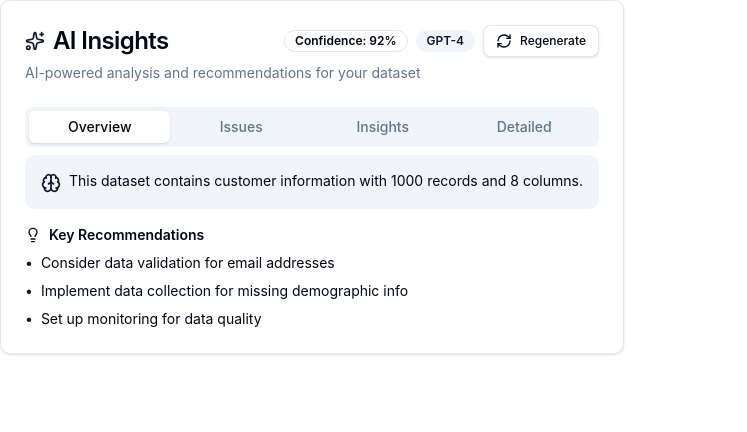
Test: AIInsightsPanel › disables regenerate button while loading
Expected: the heading "AI Insights" is shown, 53,29 -> 168,53
Click the button "Regenerate" at (541, 41), box 483,25 -> 599,57
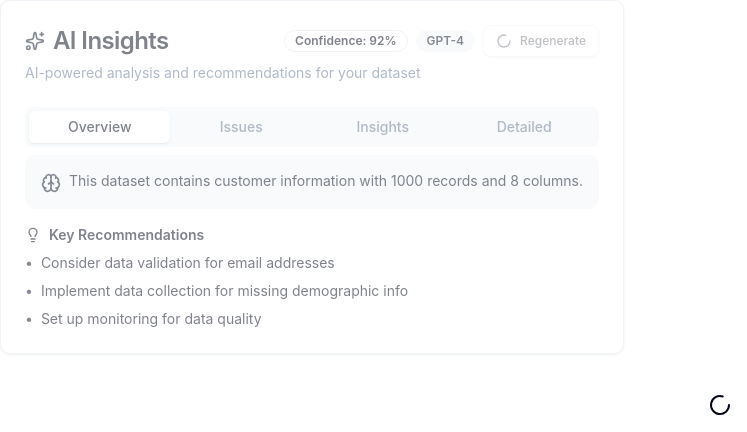
Expected: the button "Regenerate" is disabled, 483,25 -> 599,57
